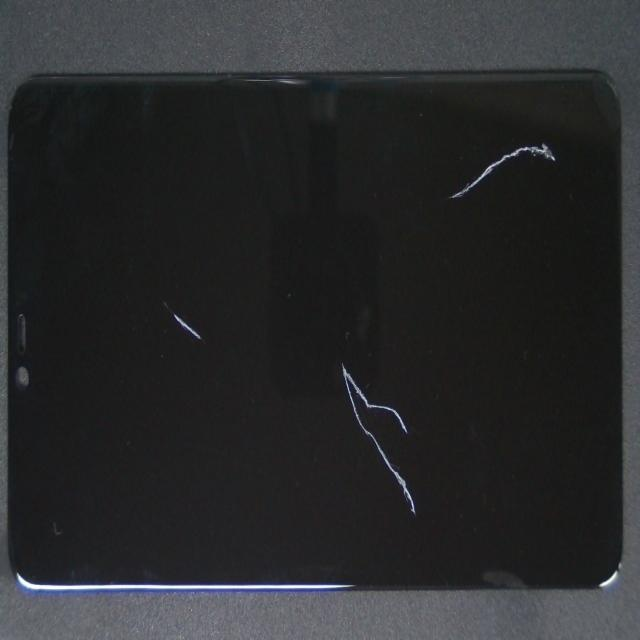scratch: (259, 280, 603, 620), (74, 102, 248, 451), (339, 24, 640, 205)
